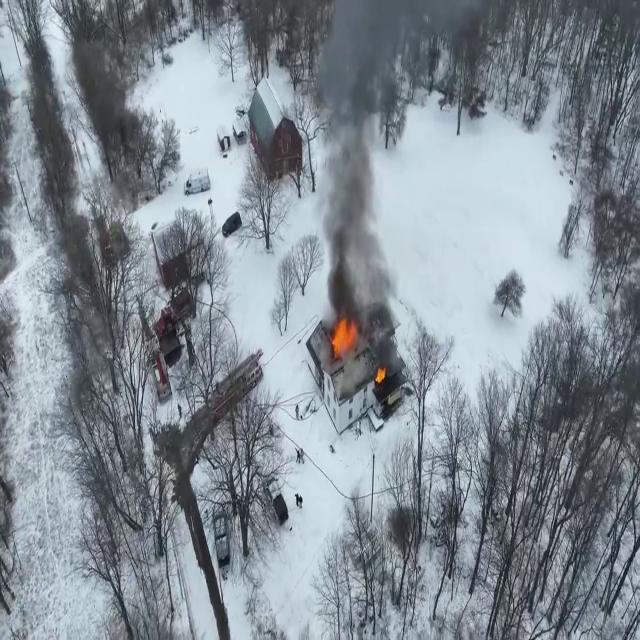Fire: (328, 308, 362, 367), (375, 360, 387, 388)
Smoke: (309, 2, 406, 336)
